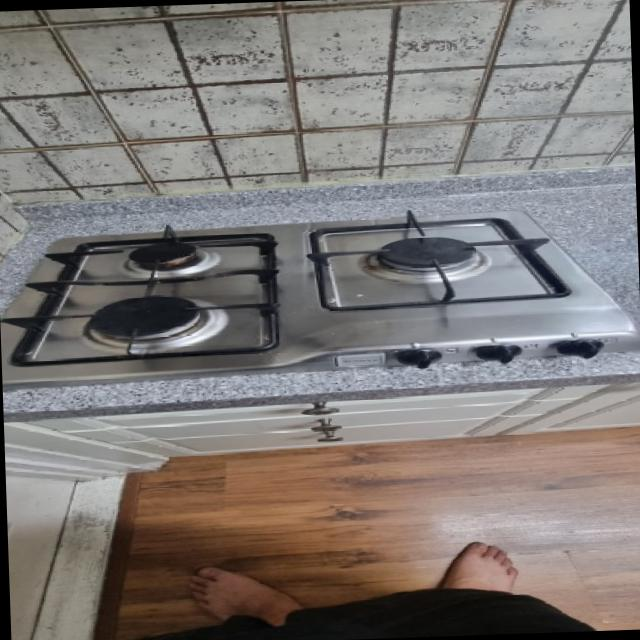knob_OFF: (312, 212, 582, 343), (51, 284, 291, 351), (70, 220, 269, 268)
